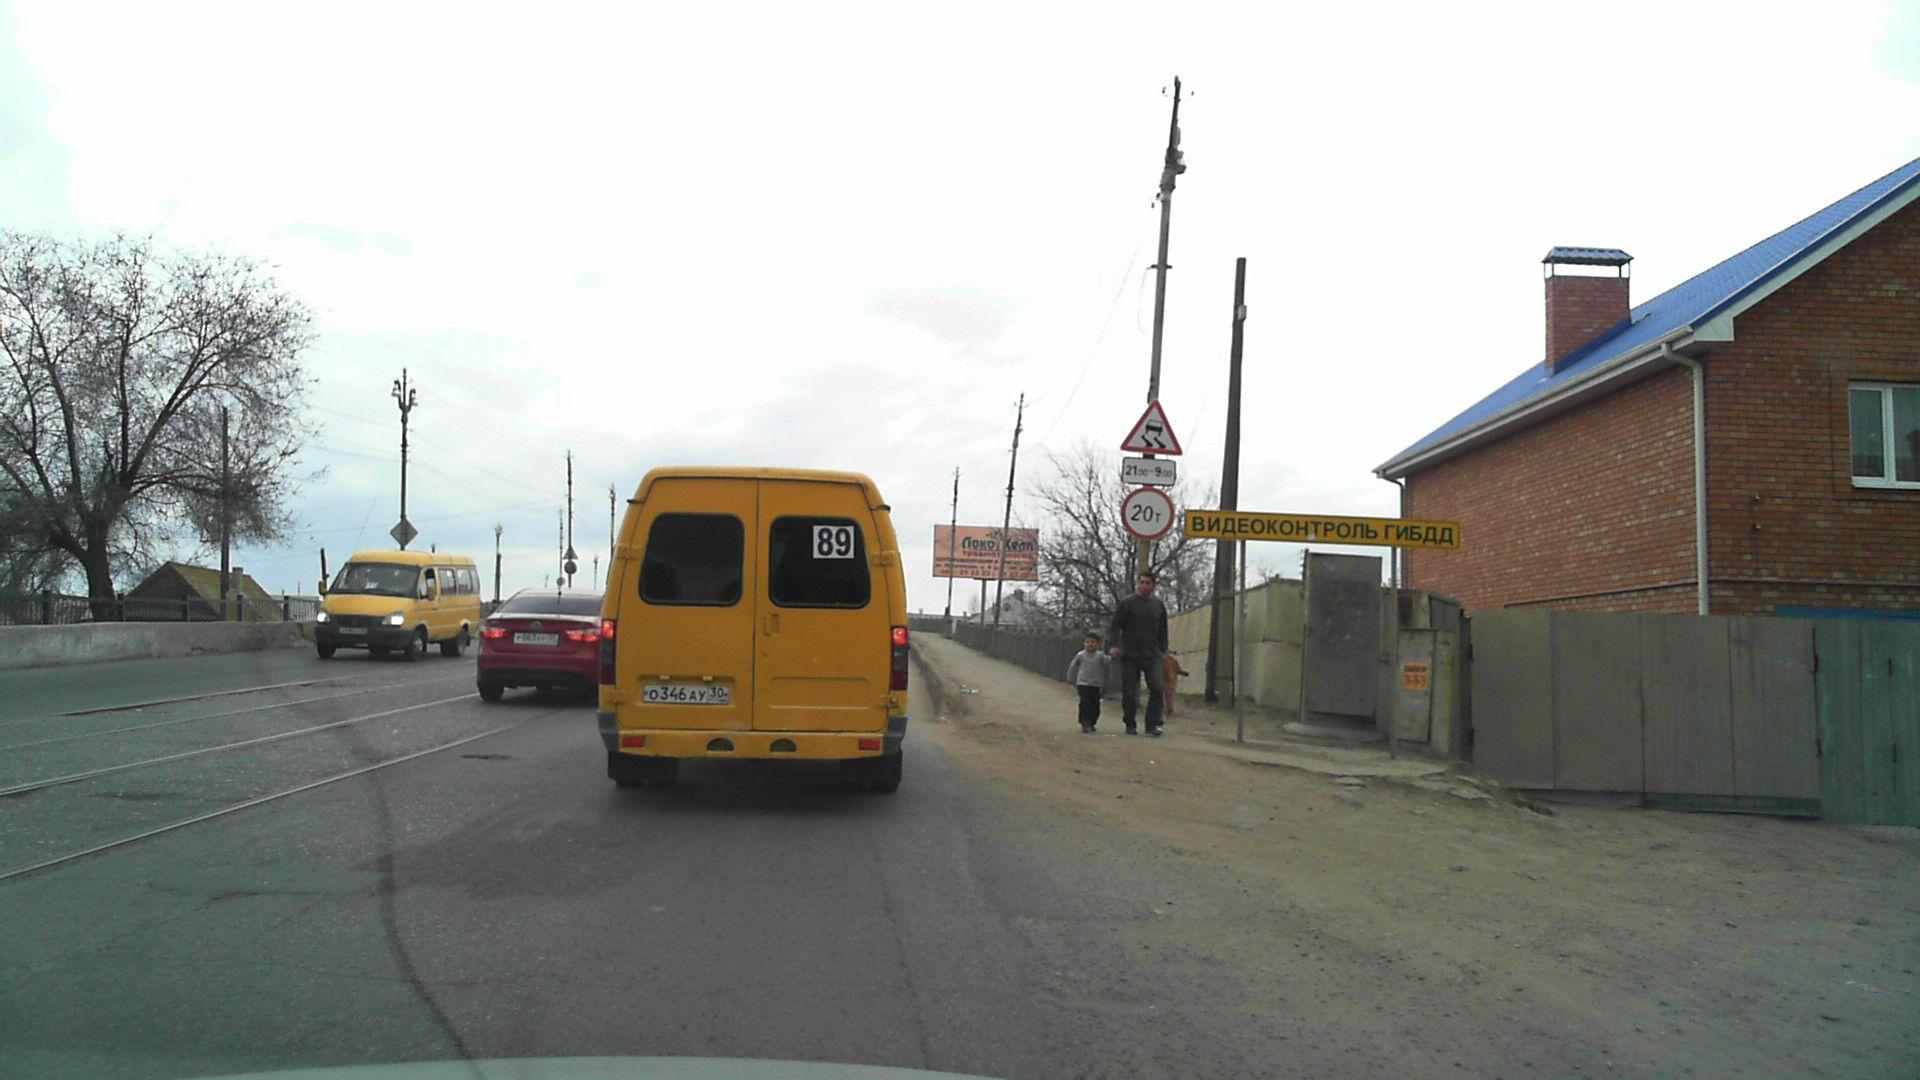1_15: (1118, 396, 1187, 456)
3_11: (1120, 488, 1178, 539)
8_5_4: (1118, 455, 1178, 487)
